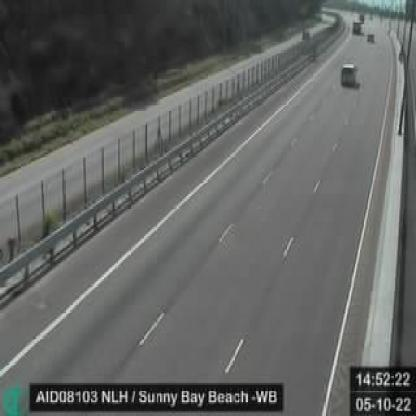Car: (342, 61, 357, 86)
